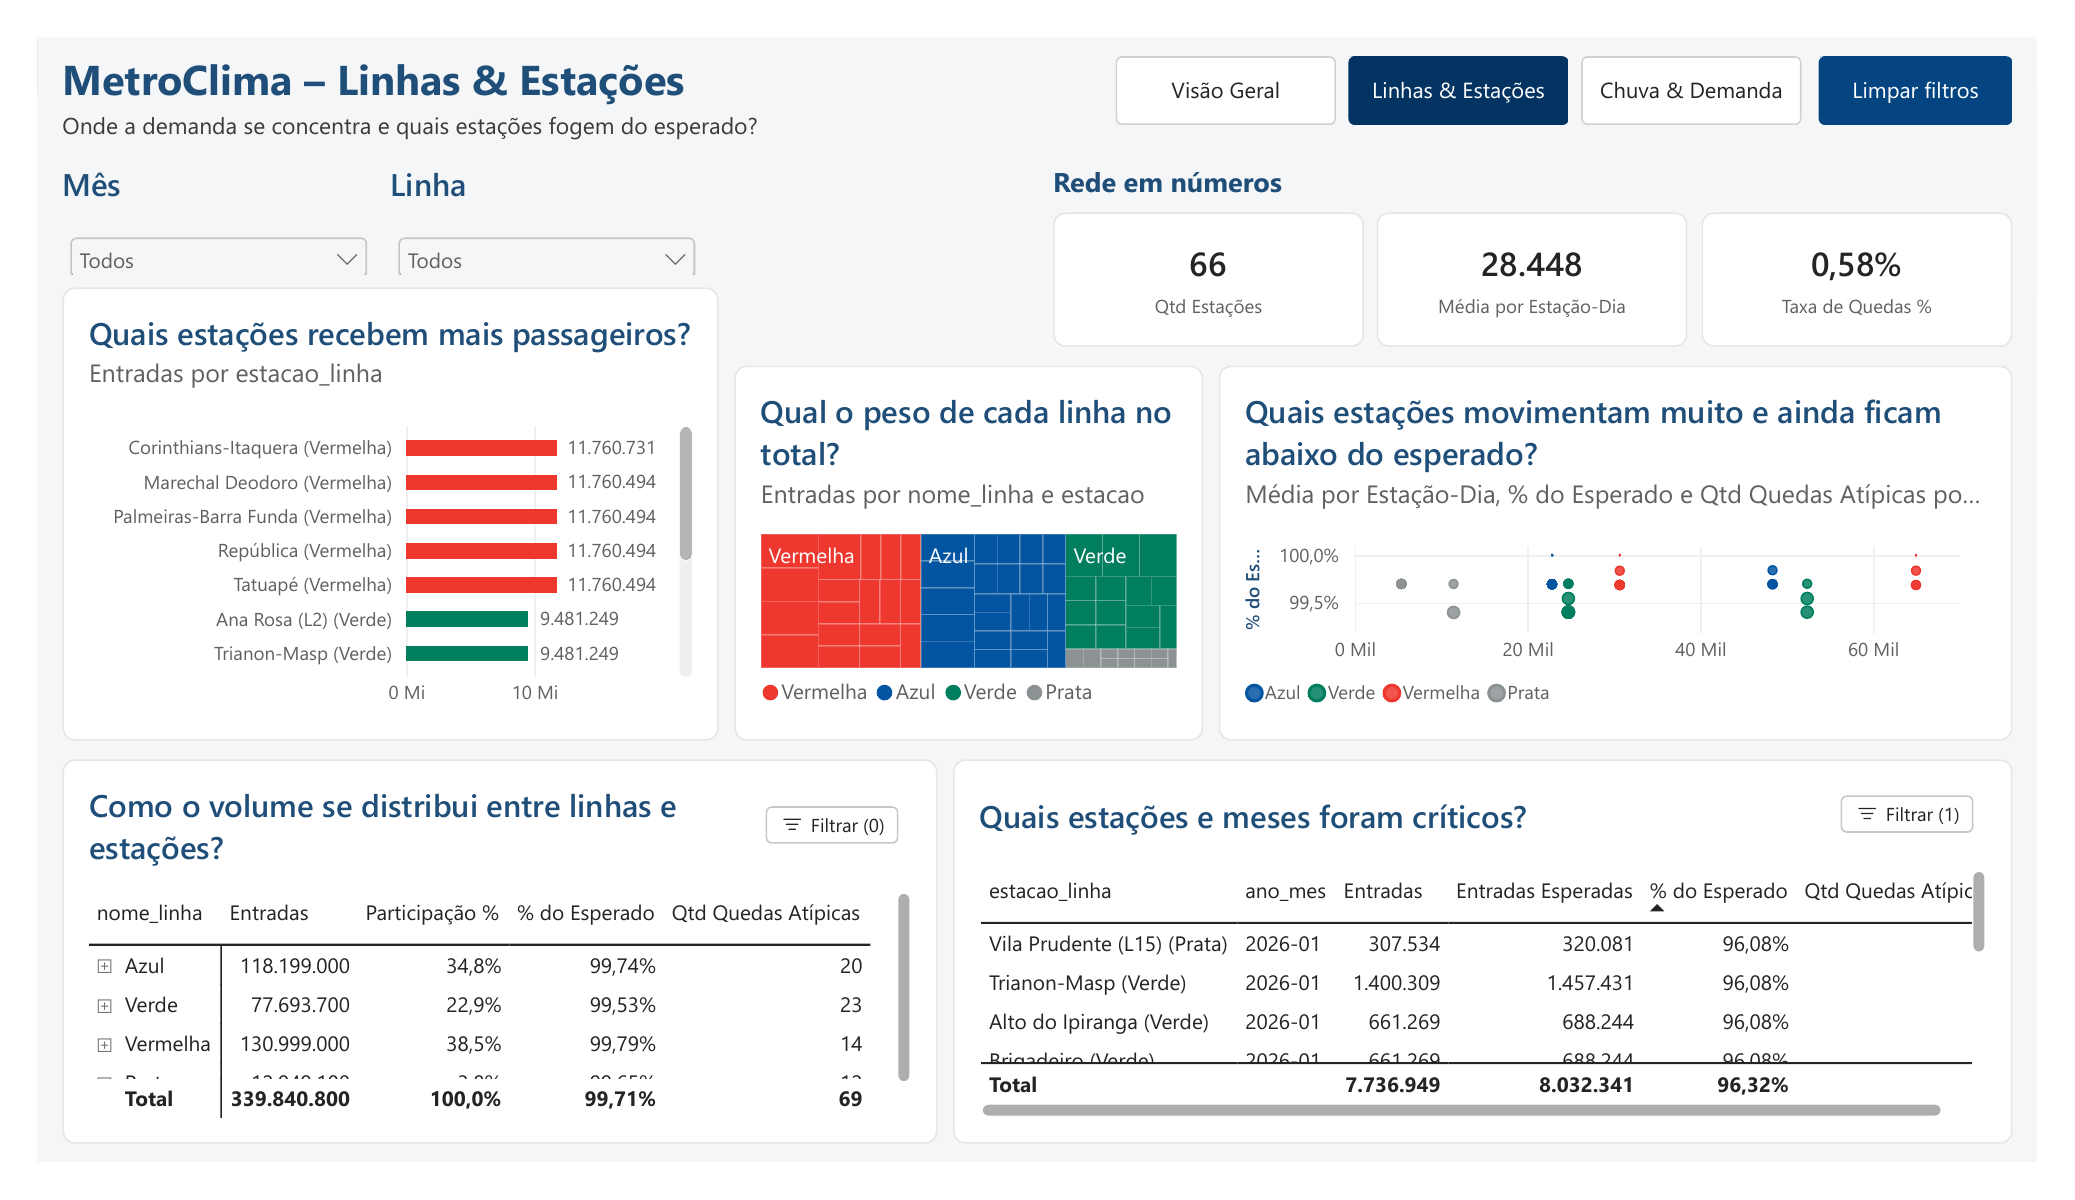

The page's visual inventory and layout, read from the dashboard file:
{"tool":"powerbi","page":{"name":"Linhas & Estações","canvas":[1280,720],"ordinal":1},"visuals":[{"type":"textbox","box":[16,8,640,40],"z":0},{"type":"textbox","box":[16,46,640,28],"z":1000},{"type":"pageNavigator","box":[690,12,440,44],"z":2000},{"type":"actionButton","box":[1140,12,124,44],"z":3000},{"type":"slicer","title":"Mês","fields":{"Values":["dim_tempo.nome_mes"]},"box":[16,80,200,72],"z":4000},{"type":"slicer","title":"Linha","fields":{"Values":["dim_estacao.nome_linha"]},"box":[226,80,200,72],"z":5000},{"type":"textbox","box":[650,80,614,30],"z":6000},{"type":"card","fields":{"Values":["_Medidas.Qtd Estações"]},"box":[650,112,199,86],"z":7000},{"type":"card","fields":{"Values":["_Medidas.Média por Estação-Dia"]},"box":[857,112,199,86],"z":8000},{"type":"card","fields":{"Values":["_Medidas.Taxa de Quedas %"]},"box":[1065,112,199,86],"z":9000},{"type":"clusteredBarChart","title":"Quais estações recebem mais passageiros?","fields":{"Category":["dim_estacao.estacao_linha"],"Y":["_Medidas.Entradas"]},"box":[16,160,420,290],"z":10000},{"type":"treemap","title":"Qual o peso de cada linha no total?","fields":{"Details":["dim_estacao.estacao"],"Group":["dim_estacao.nome_linha"],"Values":["_Medidas.Entradas"]},"box":[446,210,300,240],"z":11000},{"type":"scatterChart","title":"Quais estações movimentam muito e ainda ficam abaixo do esperado?","fields":{"Category":["dim_estacao.estacao_linha"],"Series":["dim_estacao.nome_linha"],"Size":["_Medidas.Qtd Quedas Atípicas"],"X":["_Medidas.Média por Estação-Dia"],"Y":["_Medidas.% do Esperado"]},"box":[756,210,508,240],"z":12000},{"type":"pivotTable","title":"Como o volume se distribui entre linhas e estações?","fields":{"Rows":["dim_estacao.nome_linha","dim_estacao.estacao_linha"],"Values":["_Medidas.Entradas","_Medidas.Participação %","_Medidas.% do Esperado","_Medidas.Qtd Quedas Atípicas"]},"box":[16,462,560,246],"z":13000},{"type":"tableEx","title":"Quais estações e meses foram críticos?","fields":{"Values":["dim_estacao.estacao_linha","dim_tempo.ano_mes","_Medidas.Entradas","_Medidas.Entradas Esperadas","_Medidas.% do Esperado","_Medidas.Qtd Quedas Atípicas"]},"box":[586,462,678,246],"z":14000}]}

Visuals, with their boxes on the page's 1280x720 design canvas (x1, y1, x2, y2). These are canvas units, not pixel positions in the 2075x1200 screenshot, which may show the page scaled, cropped or inside an application window:
textbox: [left=16, top=8, right=656, bottom=48]
textbox: [left=16, top=46, right=656, bottom=74]
pageNavigator: [left=690, top=12, right=1130, bottom=56]
actionButton: [left=1140, top=12, right=1264, bottom=56]
"Mês" slicer: [left=16, top=80, right=216, bottom=152]
"Linha" slicer: [left=226, top=80, right=426, bottom=152]
textbox: [left=650, top=80, right=1264, bottom=110]
card - _Medidas.Qtd Estações: [left=650, top=112, right=849, bottom=198]
card - _Medidas.Média por Estação-Dia: [left=857, top=112, right=1056, bottom=198]
card - _Medidas.Taxa de Quedas %: [left=1065, top=112, right=1264, bottom=198]
"Quais estações recebem mais passageiros?" clusteredBarChart: [left=16, top=160, right=436, bottom=450]
"Qual o peso de cada linha no total?" treemap: [left=446, top=210, right=746, bottom=450]
"Quais estações movimentam muito e ainda ficam abaixo do esperado?" scatterChart: [left=756, top=210, right=1264, bottom=450]
"Como o volume se distribui entre linhas e estações?" pivotTable: [left=16, top=462, right=576, bottom=708]
"Quais estações e meses foram críticos?" tableEx: [left=586, top=462, right=1264, bottom=708]
